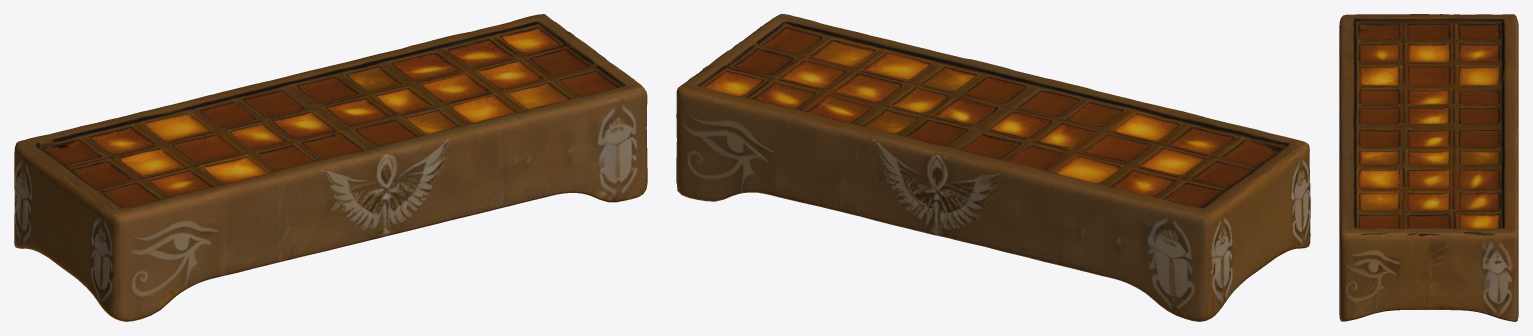
File: Item3.fbx
The picture shows the model from 3 angles, left to right: view 1: azimuth 30°, elevation 25°; view 2: azimuth 150°, elevation 25°; view 3: azimuth 270°, elevation 25°; orthographic projection. The views are drawn at different scales.
Visible parts, largest first — view 1: tripo_node_af16a00c; view 2: tripo_node_af16a00c; view 3: tripo_node_af16a00c.
Part boxes in pixels (<box>): tripo_node_af16a00c: <box>14,14,647,321</box>; tripo_node_af16a00c: <box>676,14,1310,321</box>; tripo_node_af16a00c: <box>1339,14,1518,321</box>.
Size of the model in its own units: 99.99 by 19.12 by 33.92.
Materials: 1 (1 with a texture image).
